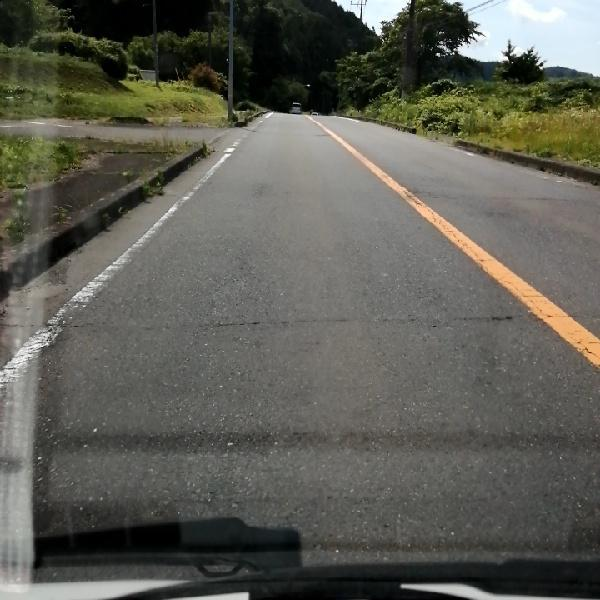D10: (25, 302, 516, 339)
D44: (0, 140, 235, 399)
